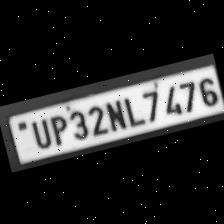2: (82, 100, 108, 137)
3: (63, 105, 90, 142)
4: (154, 80, 183, 118)
6: (192, 72, 221, 108)
7: (134, 85, 164, 123), (172, 75, 198, 112)
L: (120, 91, 144, 127)
N: (102, 95, 128, 132)
P: (43, 110, 70, 146)
U: (25, 113, 52, 150)
